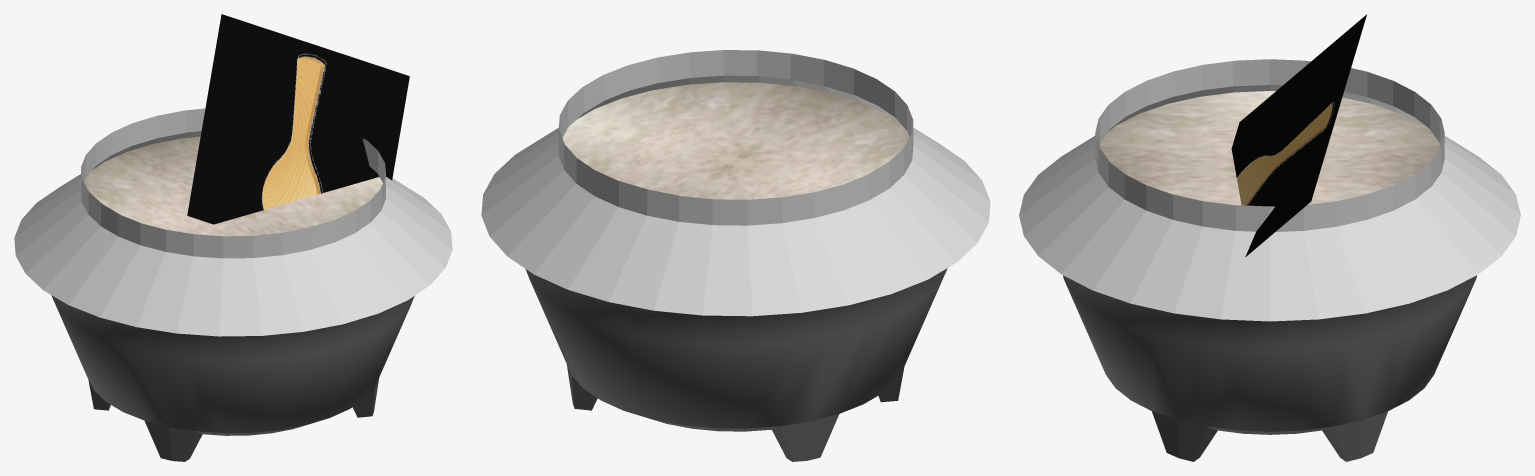
Rendered from okama.fbx.
3 renders of one model, left to right at view 1: azimuth 30°, elevation 25°; view 2: azimuth 150°, elevation 25°; view 3: azimuth 270°, elevation 25°, orthographic. The views are drawn at different scales.
Visible parts, largest first — view 1: okama, syamozi; view 2: okama; view 3: okama, syamozi.
Boxes of the visible parts, <box> form: okama: <box>14,108,452,461</box>; syamozi: <box>187,14,409,224</box>; okama: <box>481,50,990,461</box>; okama: <box>1019,59,1520,461</box>; syamozi: <box>1231,14,1366,256</box>.
Size of the model in its own units: 52.74 by 46.84 by 52.15.
2 materials, 2 textured.
